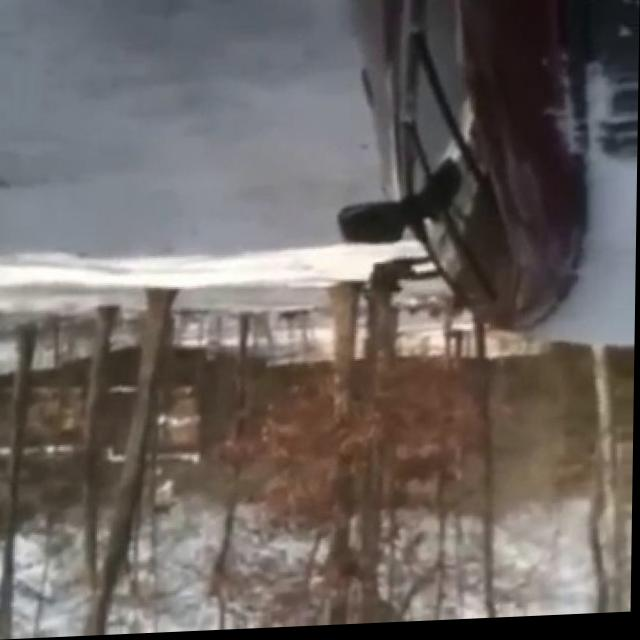fall: (367, 257, 448, 311)
